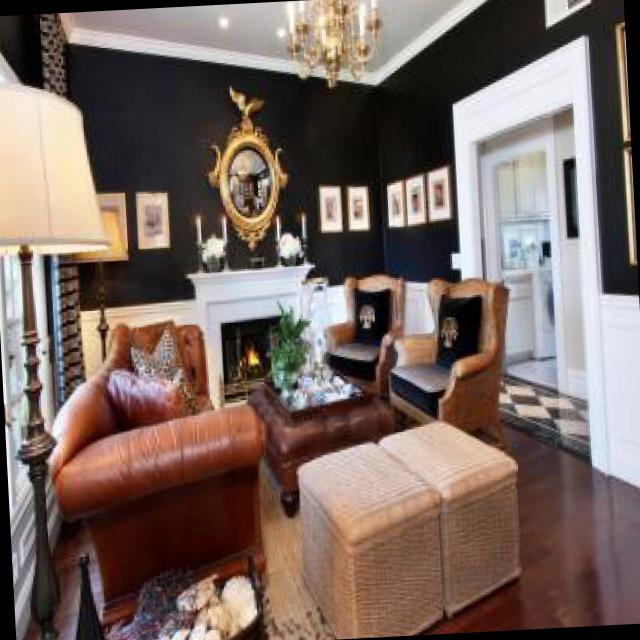fire: (238, 334, 266, 376)
